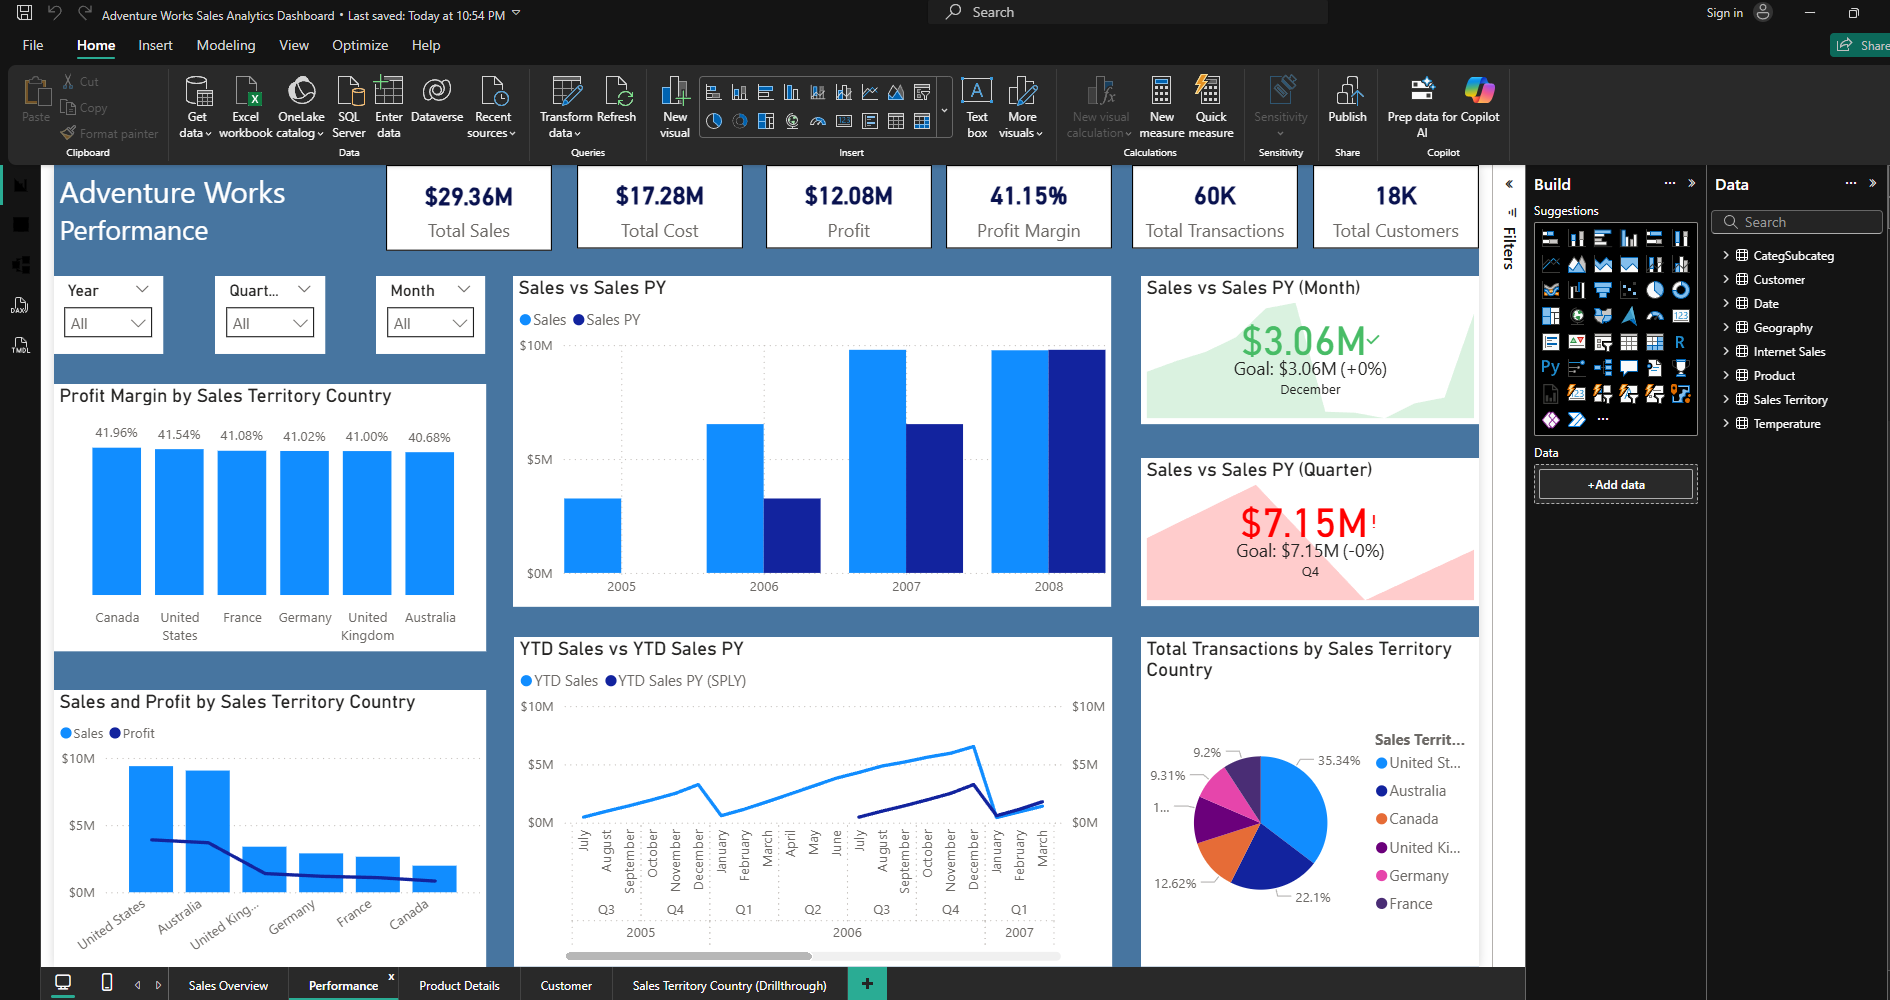

The dashboard page shown, as its layout file describes it:
{"tool":"powerbi","page":{"name":"Performance","canvas":[1280,720],"ordinal":1},"visuals":[{"type":"columnChart","fields":{"Y":["Internet Sales.Profit Margin"],"Category":["Sales Territory.Sales Territory Country"]},"box":[0,196.3,387.9,240.4],"z":0},{"type":"lineStackedColumnComboChart","title":"Sales and Profit by Sales Territory Country","fields":{"Category":["Sales Territory.Sales Territory Country"],"Y":["Internet Sales.Total Sales"],"Y2":["Internet Sales.Profit"]},"box":[0,471.6,387.9,248.6],"z":1000},{"type":"textbox","box":[0,0,224.8,85.7],"z":2000},{"type":"clusteredColumnChart","title":"Sales vs Sales PY","fields":{"Y":["Internet Sales.Total Sales","Internet Sales.SPLY Sales"],"Category":["Date.Calendar Hierarchy.Calendar Year","Date.Calendar Hierarchy.Calendar Quarter","Date.Calendar Hierarchy.Month Name"]},"box":[412.4,99.6,536.9,296.9],"z":3000},{"type":"card","fields":{"Values":["Internet Sales.Total Sales"]},"box":[297.9,0,148.7,76.7],"z":4000},{"type":"card","fields":{"Values":["Internet Sales.Profit"]},"box":[639.4,0,148.7,75.5],"z":5000},{"type":"card","fields":{"Values":["Internet Sales.Profit Margin"]},"box":[800.8,0,148.7,75.5],"z":6000},{"type":"card","fields":{"Values":["Internet Sales.Total Cost"]},"box":[469.8,0,148.7,75.5],"z":7000},{"type":"card","fields":{"Values":["Internet Sales.Total Transactions"]},"box":[968.1,0,148.7,75.5],"z":8000},{"type":"card","fields":{"Values":["Internet Sales.Total Customers"]},"box":[1130.7,0,148.7,75.5],"z":9000},{"type":"slicer","fields":{"Values":["Date.Calendar Quarter"]},"box":[144.1,99.3,99.3,70.2],"z":10000},{"type":"slicer","fields":{"Values":["Date.Month Name"]},"box":[289.4,99.3,98.1,70.2],"z":11000},{"type":"slicer","fields":{"Values":["Date.Calendar Year"]},"box":[-0.5,99.3,99.3,70.3],"z":12000},{"type":"kpi","title":"Sales vs Sales PY (Month)","fields":{"Indicator":["Internet Sales.Total Sales"],"Goal":["Internet Sales.Total Sales PY (SPLY)"],"TrendLine":["Date.Calendar Hierarchy.Month Name"]},"box":[975.8,99.6,304.2,132.8],"z":13000},{"type":"kpi","title":"Sales vs Sales PY (Quarter)","fields":{"Indicator":["Internet Sales.Total Sales"],"Goal":["Internet Sales.Total Sales PY (SPLY)"],"TrendLine":["Date.Calendar Hierarchy.Calendar Quarter"]},"box":[975.8,263.3,304.2,132.8],"z":14000},{"type":"lineChart","title":"YTD Sales vs YTD Sales PY","fields":{"Category":["Date.Calendar Hierarchy.Calendar Year","Date.Calendar Hierarchy.Calendar Quarter","Date.Calendar Hierarchy.Month Name"],"Y":["Internet Sales.YTD Sales"],"Y2":["Internet Sales.YTD Sales PY (SPLY)"]},"box":[413.3,424,536.9,296],"z":15000},{"type":"pieChart","fields":{"Y":["Internet Sales.Total Transactions"],"Category":["Sales Territory.Sales Territory Country"]},"box":[976,424,304,296],"z":16000}]}

Visuals, with their boxes on the page's 1280x720 design canvas (x1, y1, x2, y2). These are canvas units, not pixel positions in the 1890x1000 screenshot, which may show the page scaled, cropped or inside an application window:
columnChart - Internet Sales.Profit Margin x Sales Territory.Sales Territory Country: bbox=(0, 196, 388, 437)
"Sales and Profit by Sales Territory Country" lineStackedColumnComboChart: bbox=(0, 472, 388, 720)
textbox: bbox=(0, 0, 225, 86)
"Sales vs Sales PY" clusteredColumnChart: bbox=(412, 100, 949, 396)
card - Internet Sales.Total Sales: bbox=(298, 0, 447, 77)
card - Internet Sales.Profit: bbox=(639, 0, 788, 76)
card - Internet Sales.Profit Margin: bbox=(801, 0, 950, 76)
card - Internet Sales.Total Cost: bbox=(470, 0, 618, 76)
card - Internet Sales.Total Transactions: bbox=(968, 0, 1117, 76)
card - Internet Sales.Total Customers: bbox=(1131, 0, 1279, 76)
slicer - Date.Calendar Quarter: bbox=(144, 99, 243, 170)
slicer - Date.Month Name: bbox=(289, 99, 388, 170)
slicer - Date.Calendar Year: bbox=(0, 99, 99, 170)
"Sales vs Sales PY (Month)" kpi: bbox=(976, 100, 1280, 232)
"Sales vs Sales PY (Quarter)" kpi: bbox=(976, 263, 1280, 396)
"YTD Sales vs YTD Sales PY" lineChart: bbox=(413, 424, 950, 720)
pieChart - Internet Sales.Total Transactions x Sales Territory.Sales Territory Country: bbox=(976, 424, 1280, 720)
